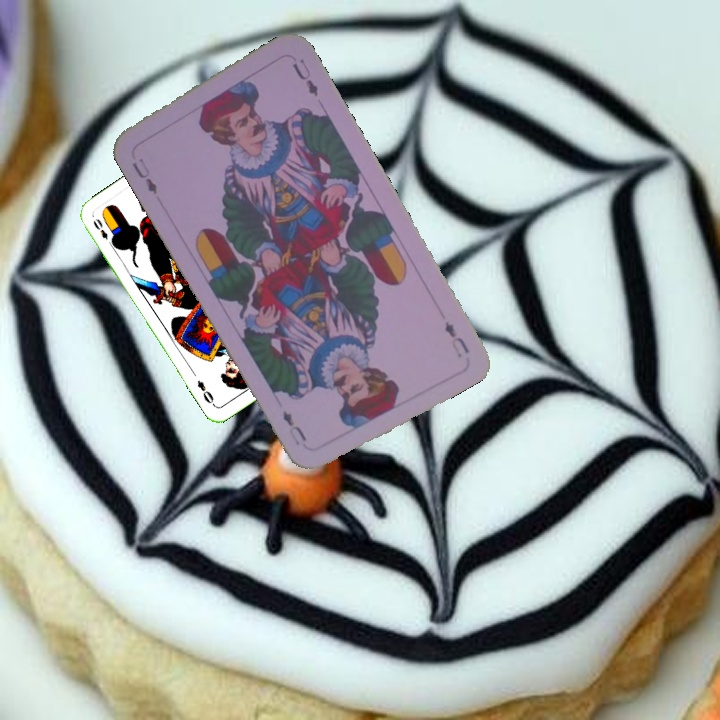EO: (89, 214, 117, 250)
EU: (128, 154, 160, 198), (440, 317, 472, 361)
